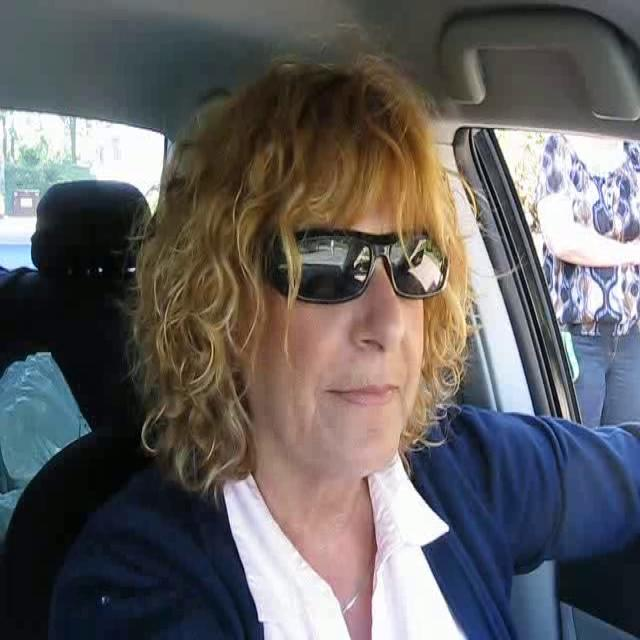close: (322, 377, 403, 413)
